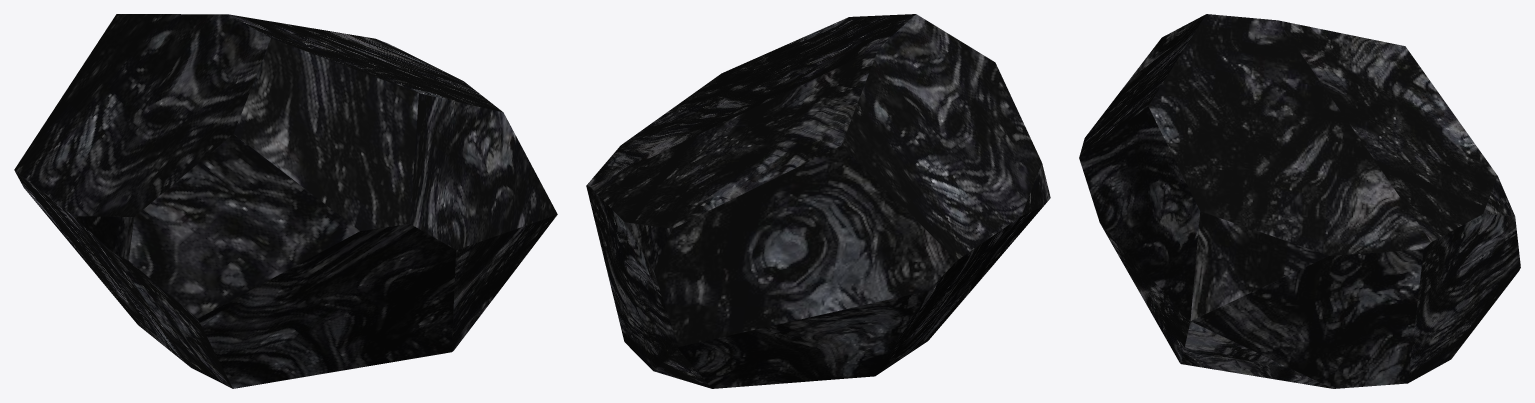
Rendered from coal.glb.
The picture shows the model from 3 angles, left to right: view 1: azimuth 30°, elevation 25°; view 2: azimuth 150°, elevation 25°; view 3: azimuth 270°, elevation 25°; orthographic projection. The views are drawn at different scales.
Parts seen in each view (by area): view 1: coal; view 2: coal; view 3: coal.
Boxes of the visible parts, box(x1,y1,x2,y2) form: coal: box(14, 14, 557, 388); coal: box(586, 14, 1050, 388); coal: box(1079, 14, 1520, 388).
Size of the model in its own units: 0.9422 by 0.7061 by 1.
Materials: 1 (1 with a texture image).
